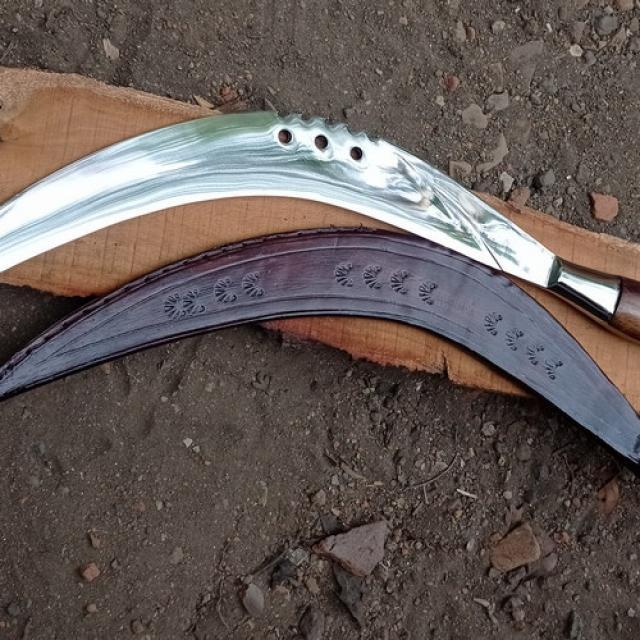machete: (3, 106, 640, 357)
